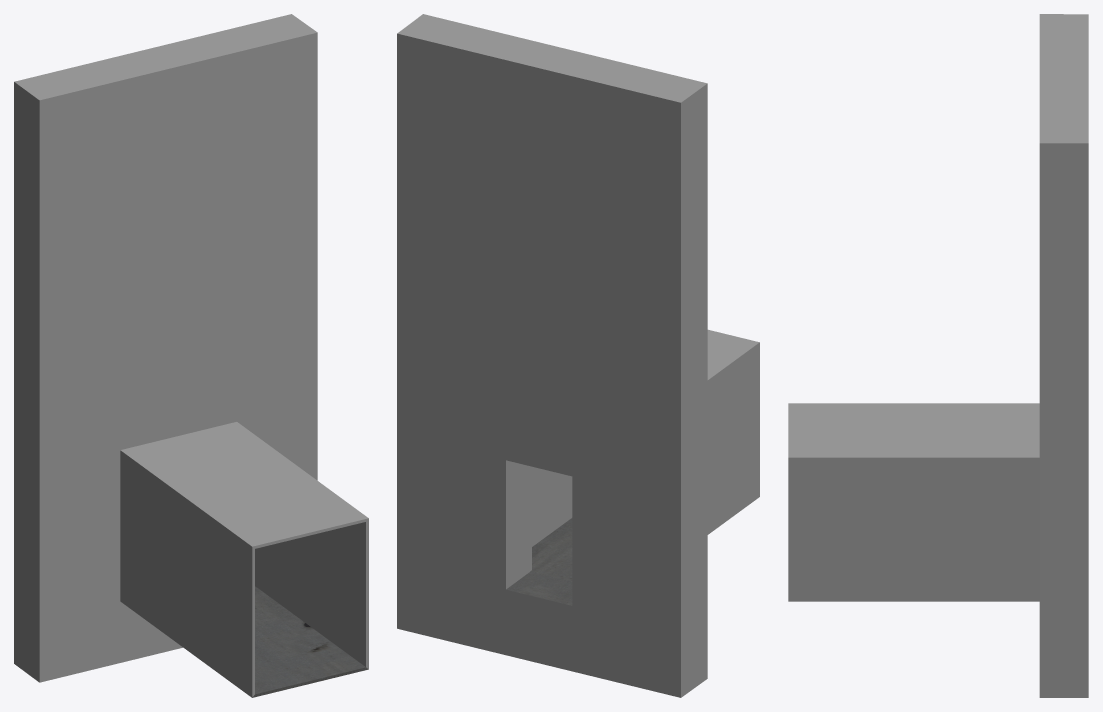
The model's file is hall_walll-TConc.fbx.
The picture shows the model from 3 angles, left to right: view 1: azimuth 30°, elevation 25°; view 2: azimuth 150°, elevation 25°; view 3: azimuth 270°, elevation 25°; orthographic projection. The views are drawn at different scales.
Parts seen in each view (by area): view 1: hall_walll-TConc; view 2: hall_walll-TConc; view 3: hall_walll-TConc.
Part boxes in pixels (x1,y1,x2,y2): hall_walll-TConc: (14,14,368,697); hall_walll-TConc: (397,14,759,697); hall_walll-TConc: (788,14,1088,697).
Size of the model in its own units: 500 by 1000 by 491.
